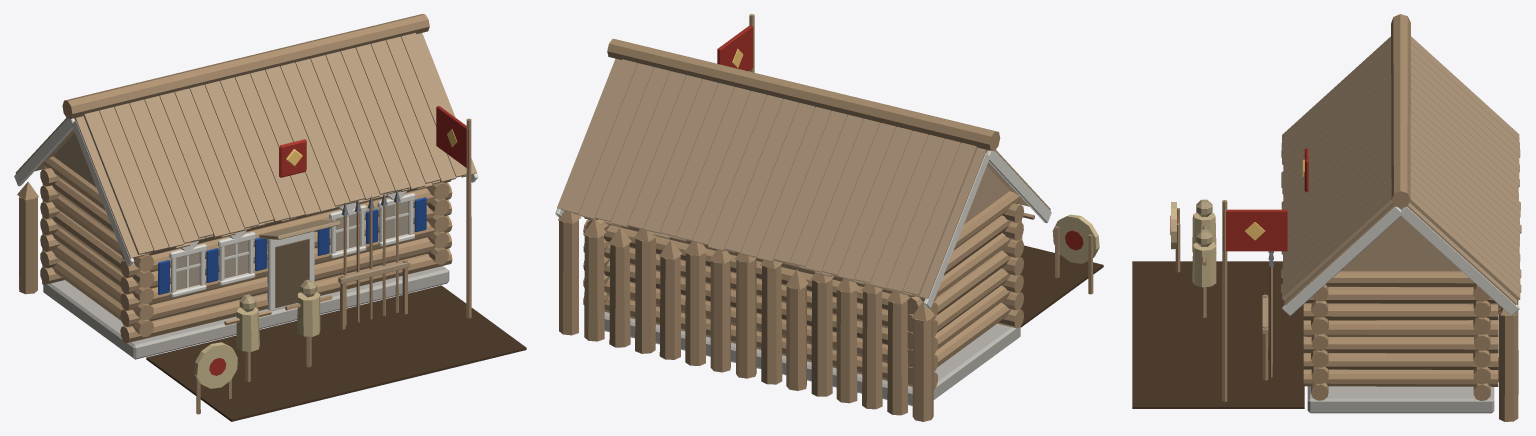
Rendered from bld_kazarma_e1.glb.
3 views of the same model, side by side, from view 1: azimuth 30°, elevation 25°; view 2: azimuth 150°, elevation 25°; view 3: azimuth 270°, elevation 25° (orthographic). The views are drawn at different scales.
Parts seen in each view (by area): view 1: kazarma; view 2: kazarma; view 3: kazarma.
Boxes of the visible parts, x1,y1,x2,y2 form: kazarma: [14, 14, 526, 421]; kazarma: [555, 14, 1103, 421]; kazarma: [1132, 14, 1521, 421].
Size of the model in its own units: 2.06 by 1.3 by 1.92.
